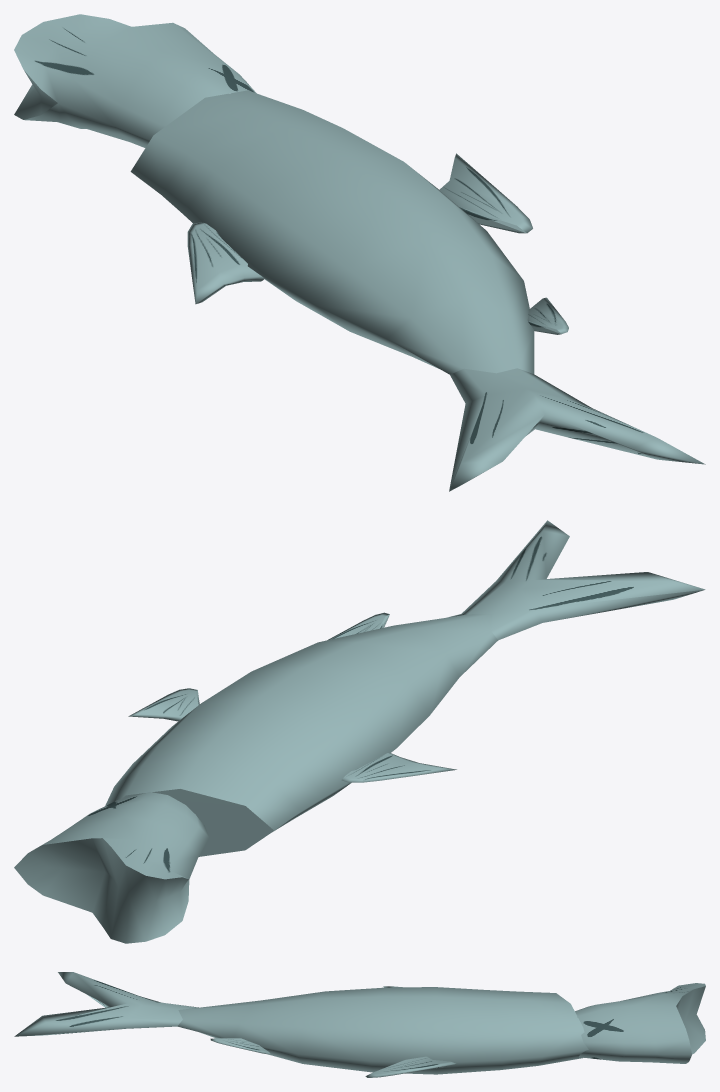
File: fish-whole.FBX
3 renders of one model, top to bottom at view 1: azimuth 30°, elevation 25°; view 2: azimuth 150°, elevation 25°; view 3: azimuth 270°, elevation 25°, orthographic. The views are drawn at different scales.
Visible parts, largest first — view 1: Fish Body, Fish Head, Fish Fin, Fish Fin001, Fish Fin002; view 2: Fish Body, Fish Head, Fish Fin, Fish Fin001; view 3: Fish Body, Fish Head, Fish Fin001, Fish Fin002.
Boxes of the visible parts, left/top/right/bottom form: Fish Body: left=130, top=90, right=705, bottom=491; Fish Head: left=14, top=14, right=256, bottom=147; Fish Fin: left=187, top=222, right=264, bottom=304; Fish Fin001: left=439, top=153, right=532, bottom=233; Fish Fin002: left=527, top=297, right=568, bottom=334; Fish Body: left=105, top=520, right=705, bottom=856; Fish Head: left=14, top=792, right=209, bottom=943; Fish Fin: left=341, top=753, right=456, bottom=782; Fish Fin001: left=128, top=688, right=199, bottom=721; Fish Body: left=14, top=972, right=588, bottom=1074; Fish Head: left=575, top=983, right=705, bottom=1063; Fish Fin001: left=365, top=1056, right=455, bottom=1077; Fish Fin002: left=210, top=1038, right=271, bottom=1054.
Size of the model in its own units: 66.51 by 22.06 by 192.
